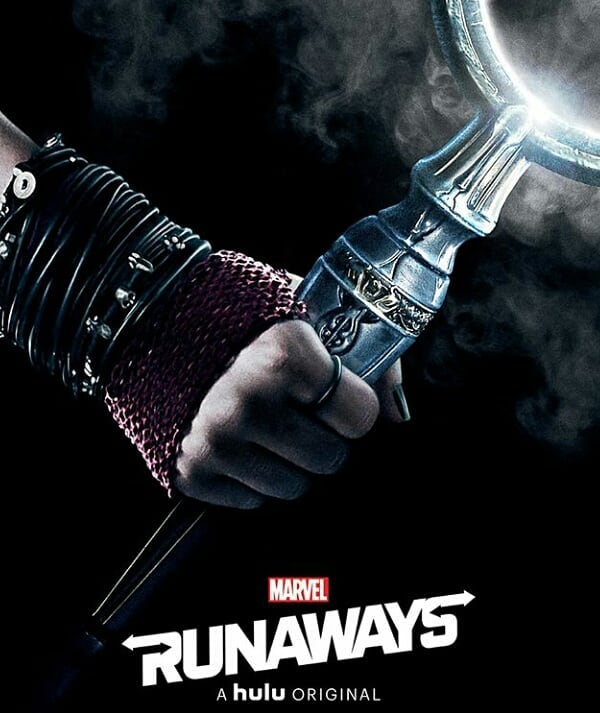hand: (83, 260, 395, 503)
